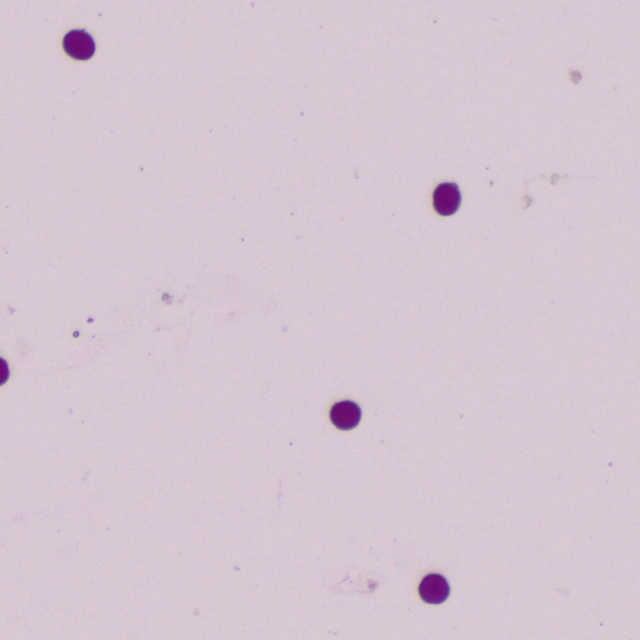viable: (64, 30, 95, 59), (419, 574, 449, 603), (331, 401, 361, 429), (434, 183, 460, 215), (0, 358, 9, 384)
